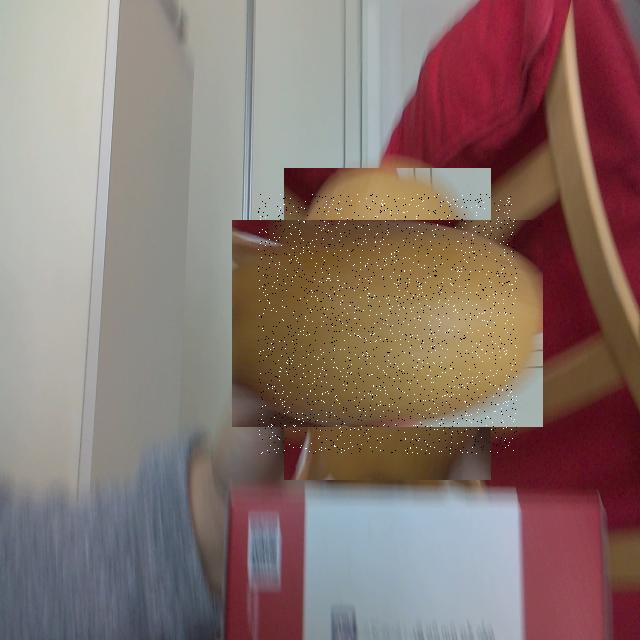pear: (258, 194, 517, 454)
